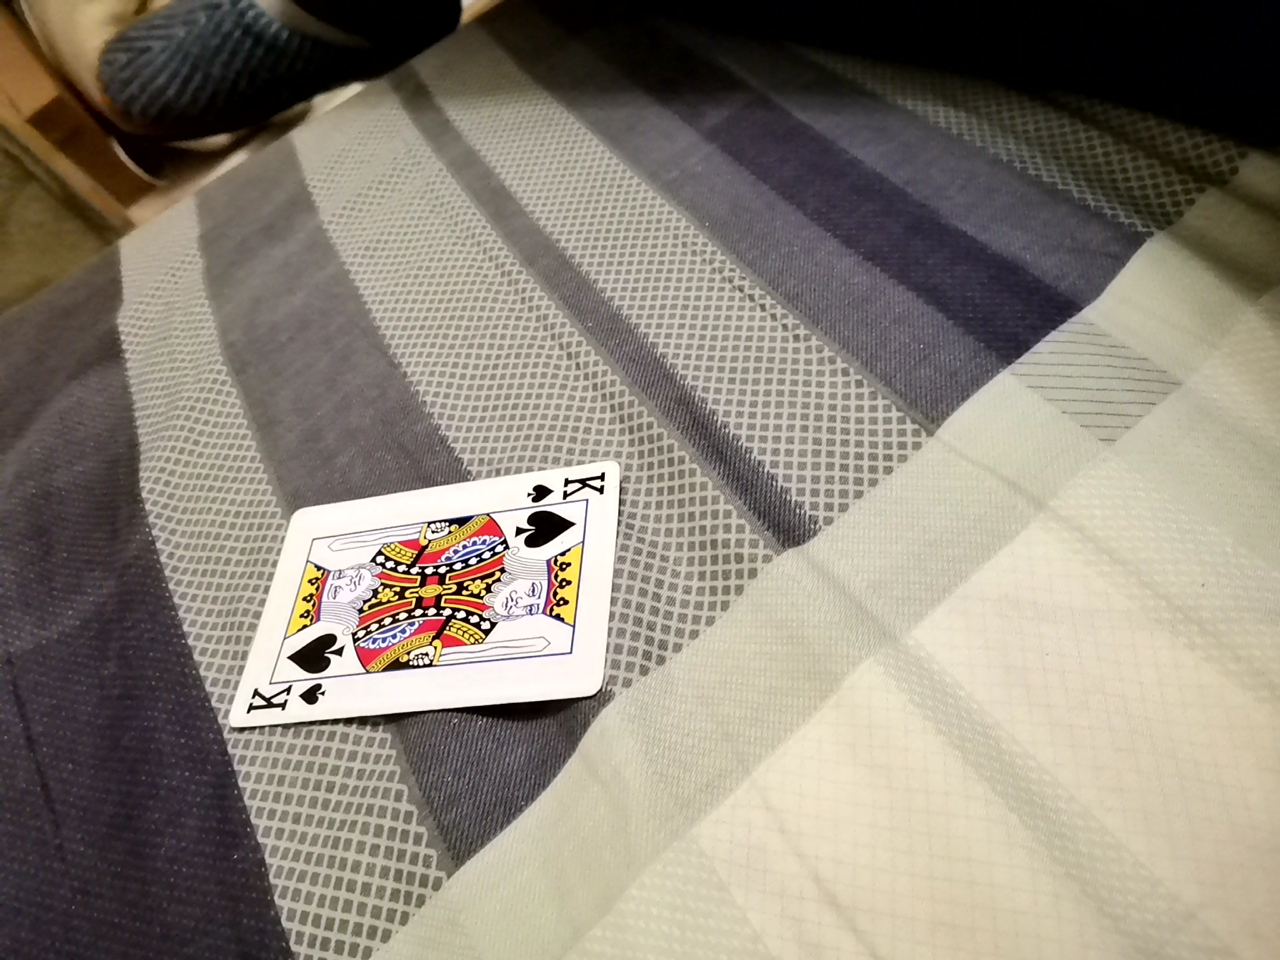ht k: (245, 476, 615, 728)
